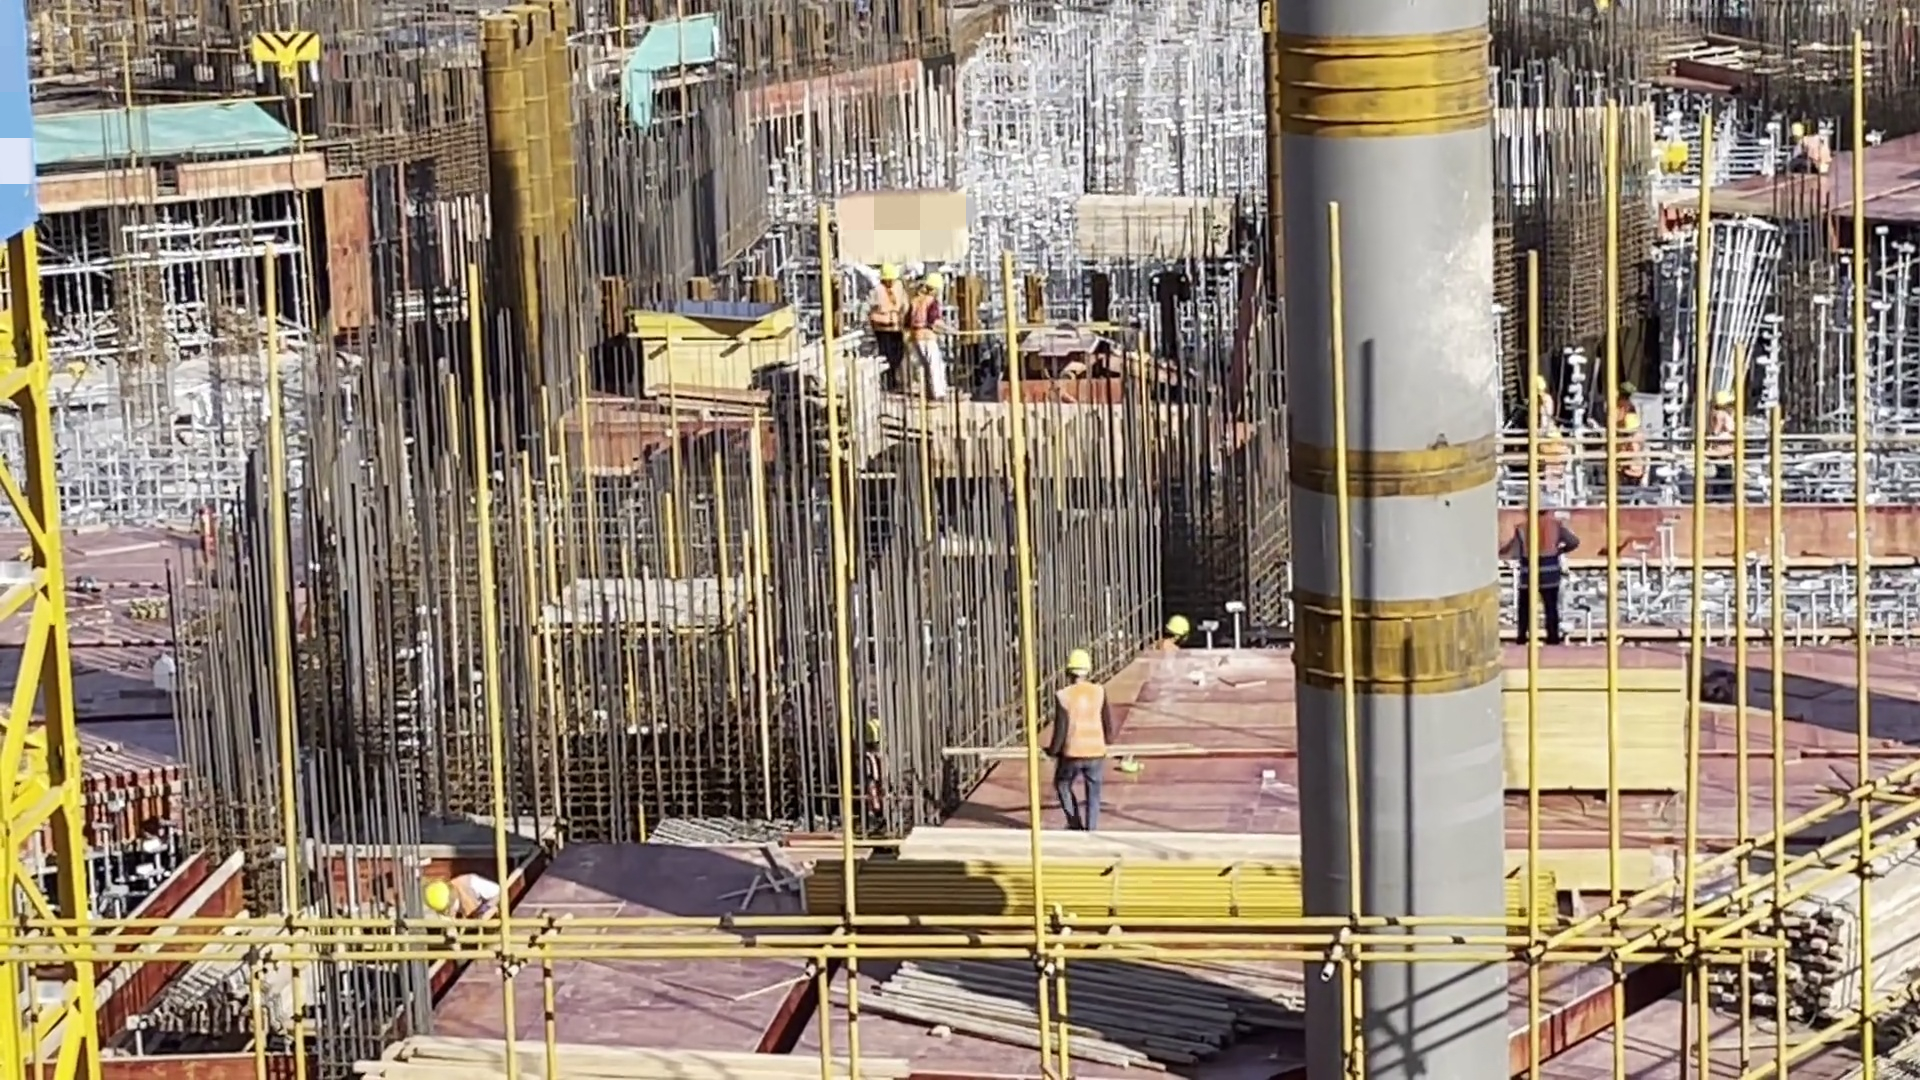helmet: (1064, 642, 1103, 680), (420, 878, 453, 915), (1605, 379, 1639, 411), (1157, 608, 1190, 637), (1617, 410, 1646, 438), (1525, 490, 1551, 521), (915, 268, 942, 297), (1704, 385, 1733, 409), (875, 263, 898, 291), (1528, 374, 1552, 398)
hook: (241, 20, 330, 103)
person: (1049, 650, 1116, 827), (1507, 496, 1571, 646), (417, 870, 507, 941), (906, 262, 951, 396), (865, 259, 905, 386), (1777, 116, 1832, 178), (1704, 391, 1738, 482), (1610, 415, 1648, 488)
vest: (1051, 682, 1107, 763), (445, 880, 484, 919)
wood: (849, 923, 1272, 1080), (1706, 846, 1920, 1036)
